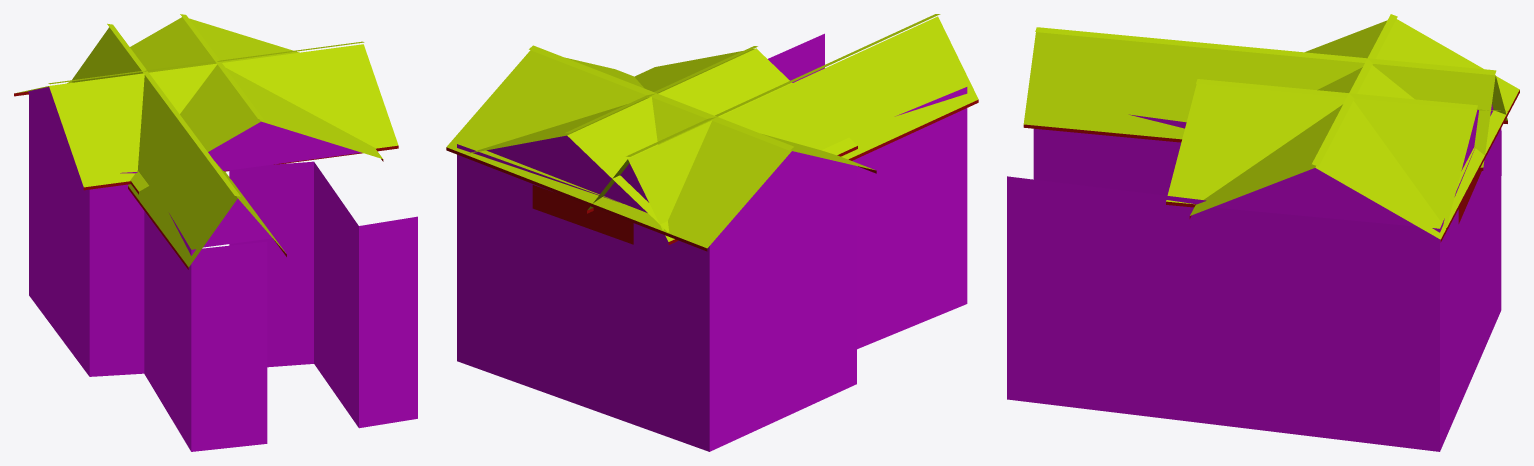
File: ces_24.glb
The picture shows the model from 3 angles, left to right: view 1: azimuth 30°, elevation 25°; view 2: azimuth 150°, elevation 25°; view 3: azimuth 270°, elevation 25°; orthographic projection. The views are drawn at different scales.
Parts seen in each view (by area): view 1: ces_24; view 2: ces_24; view 3: ces_24.
Boxes of the visible parts, left/top/right/bottom form: ces_24: left=14, top=14, right=417, bottom=451; ces_24: left=446, top=14, right=978, bottom=451; ces_24: left=1007, top=14, right=1519, bottom=451.
Size of the model in its own units: 13.68 by 10.31 by 17.05.
